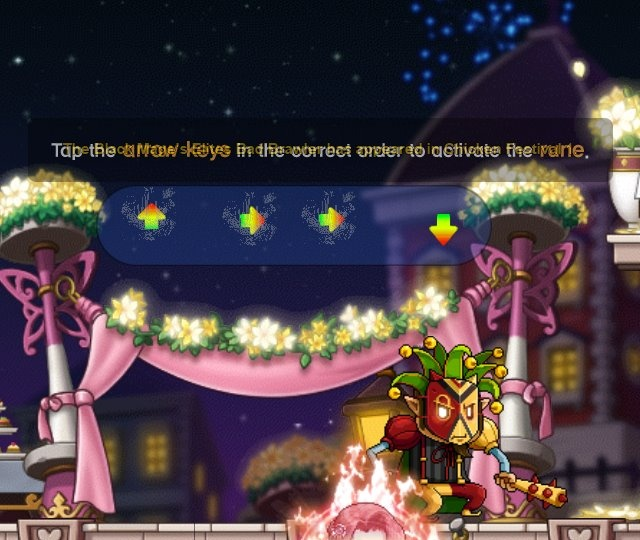down: (420, 206, 462, 253)
right: (233, 200, 273, 246), (307, 199, 351, 237)
up: (130, 196, 169, 238)
